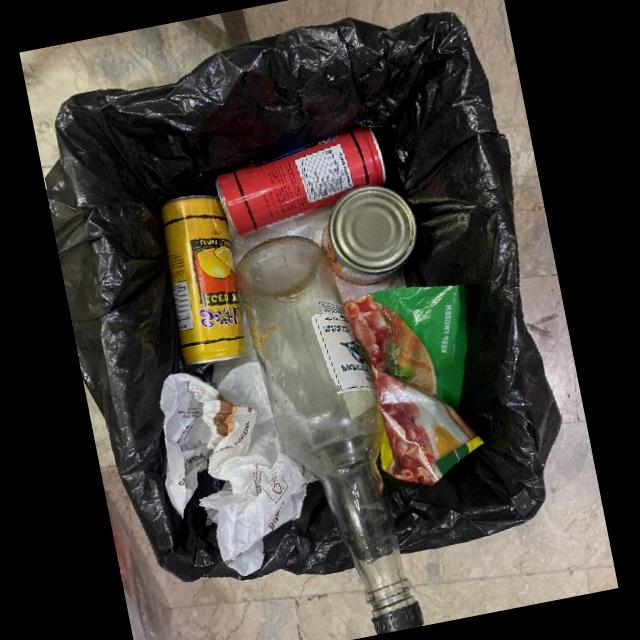bao_bi_thuc_pham: (343, 284, 485, 485)
chai_thuy_tinh: (236, 234, 424, 635)
giay: (160, 357, 308, 576)
nhom: (215, 125, 388, 237), (160, 194, 248, 364), (322, 185, 417, 286)
